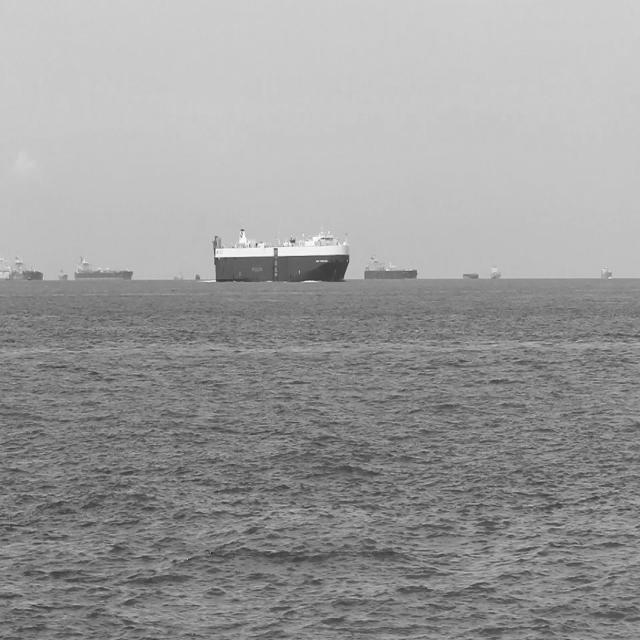ship: (212, 226, 353, 282), (74, 253, 136, 280), (359, 255, 420, 282), (8, 258, 45, 284), (51, 262, 70, 284), (488, 262, 503, 284), (0, 259, 11, 287), (598, 260, 612, 282), (461, 267, 480, 281), (173, 269, 186, 287), (192, 265, 201, 285)
